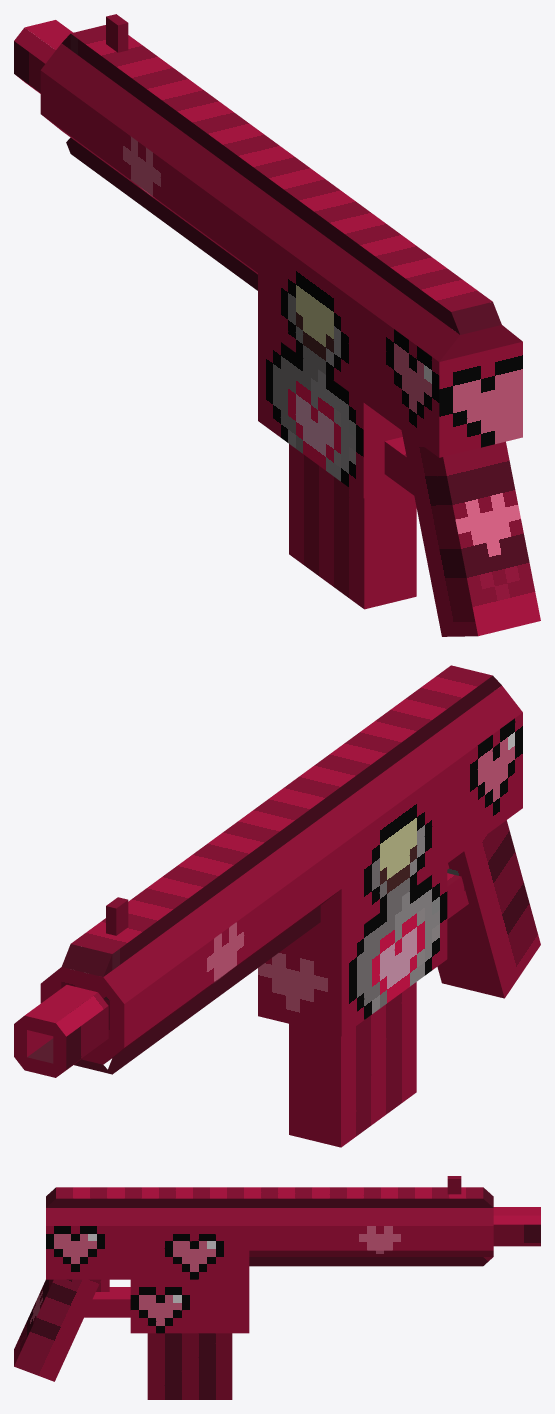
File: assault_rifle.gltf
3 views of the same model, one above another, from view 1: azimuth 30°, elevation 25°; view 2: azimuth 150°, elevation 25°; view 3: azimuth 270°, elevation 25° (orthographic). The views are drawn at different scales.
Visible parts, largest first — view 1: cube (×15); view 2: cube (×19); view 3: cube (×15).
Boxes of the visible parts, x1,y1,x2,y2 form: cube (×15): [14, 14, 540, 636]; cube (×19): [14, 665, 540, 1147]; cube (×15): [14, 1176, 540, 1399].
Size of the model in its own units: 0.1 by 0.4375 by 0.9714.
1 material, 1 textured.
